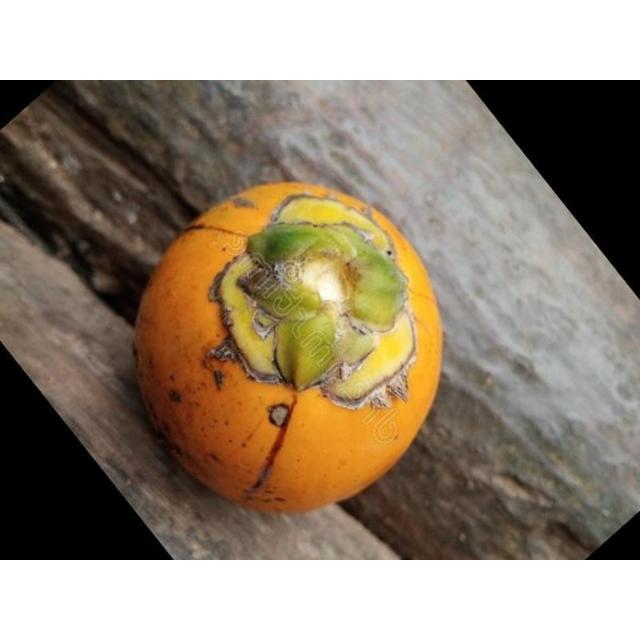good: (134, 182, 443, 514)
